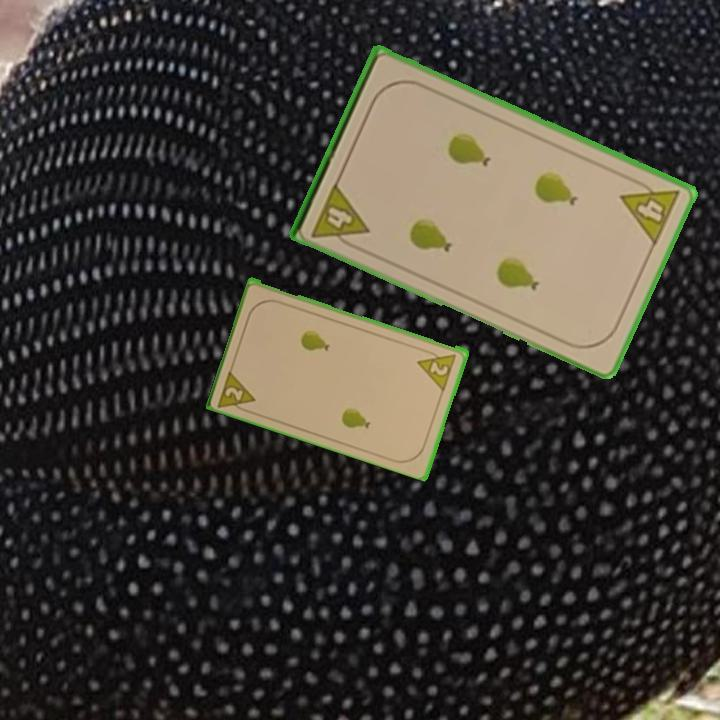2p: (214, 365, 259, 416), (414, 346, 459, 392)
4p: (617, 172, 683, 249), (307, 178, 372, 253)
